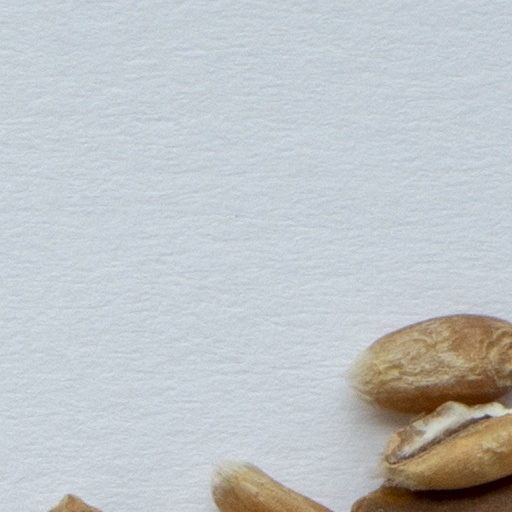Peel-poly: (348, 474, 511, 511)
Wheat-grain-damaged-poly: (367, 401, 511, 492)
